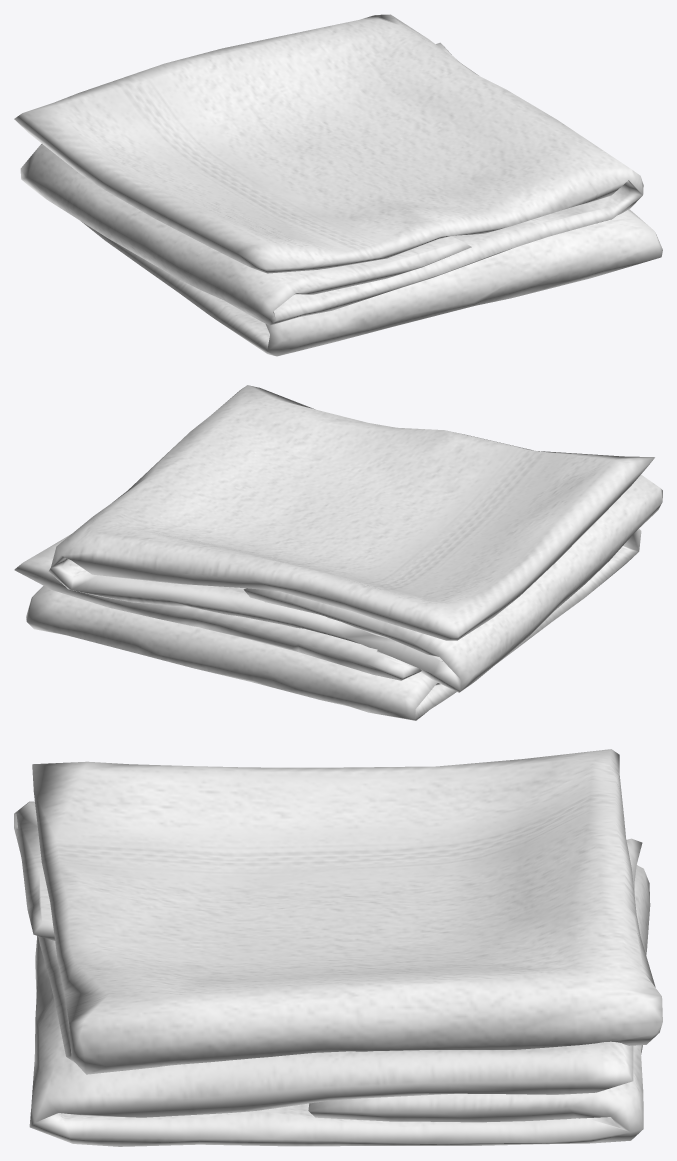
The model's file is SM_Towel_A1.fbx.
3 views of the same model, one above another, from view 1: azimuth 30°, elevation 25°; view 2: azimuth 150°, elevation 25°; view 3: azimuth 270°, elevation 25° (orthographic). The views are drawn at different scales.
Visible parts, largest first — view 1: SM_Towel_A1; view 2: SM_Towel_A1; view 3: SM_Towel_A1.
Boxes of the visible parts, left/top/right/bottom form: SM_Towel_A1: left=14, top=14, right=662, bottom=356; SM_Towel_A1: left=14, top=385, right=662, bottom=720; SM_Towel_A1: left=14, top=749, right=662, bottom=1146.
Size of the model in its own units: 45.69 by 44.79 by 11.46.
Materials: 1 (1 with a texture image).
